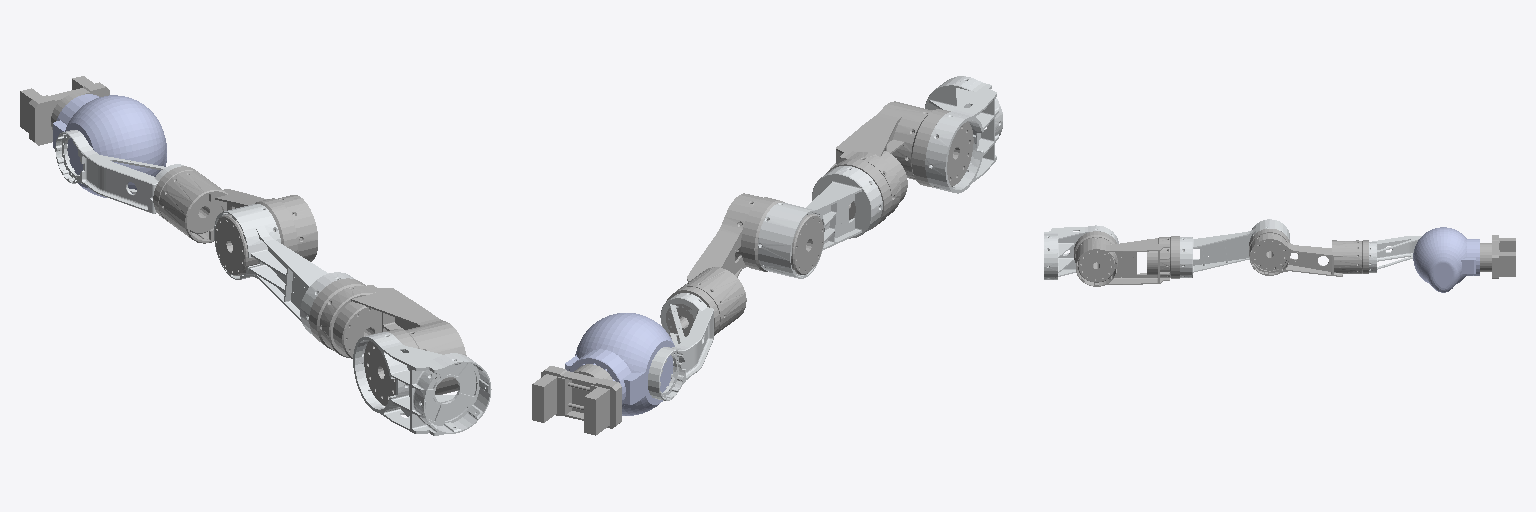
The robot description file, URDF, robot "leftarm":
<?xml version="1.0" encoding="utf-8"?>
<!-- This URDF was automatically created by SolidWorks to URDF Exporter! Originally created by [author] ([email redacted]) 
     Commit Version: 1.5.1-0-g916b5db  Build Version: 1.5.7152.31018
     For more information, please see http://wiki.ros.org/sw_urdf_exporter -->
<robot
  name="leftarm">
  <link
    name="base_link">
    <inertial>
      <origin
        xyz="-0.18611 0.00024595 -0.30056"
        rpy="0 0 0" />
      <mass
        value="29.23" />
      <inertia
        ixx="0.90901"
        ixy="0.0026537"
        ixz="-0.054869"
        iyy="1.3472"
        iyz="-0.0012738"
        izz="0.73143" />
    </inertial>
    <visual>
      <origin
        xyz="0 0 0"
        rpy="0 0 0" />
      <geometry>
        <mesh
          filename="package://leftarm/meshes/base_link.STL" />
      </geometry>
      <material
        name="">
        <color
          rgba="0.75294 0.75294 0.75294 1" />
      </material>
    </visual>
    <collision>
      <origin
        xyz="0 0 0"
        rpy="0 0 0" />
      <geometry>
        <mesh
          filename="package://leftarm/meshes/base_link.STL" />
      </geometry>
    </collision>
  </link>
  <link
    name="leftarm_link1">
    <inertial>
      <origin
        xyz="-5.5564E-06 -0.028843 -0.071947"
        rpy="0 0 0" />
      <mass
        value="0.18584" />
      <inertia
        ixx="0.0006488"
        ixy="2.9741E-08"
        ixz="-2.74E-08"
        iyy="0.0007339"
        iyz="0.00015111"
        izz="0.00049128" />
    </inertial>
    <visual>
      <origin
        xyz="0 0 0"
        rpy="0 0 0" />
      <geometry>
        <mesh
          filename="package://leftarm/meshes/leftarm_link1.STL" />
      </geometry>
      <material
        name="">
        <color
          rgba="0.89804 0.91373 0.92549 1" />
      </material>
    </visual>
    <collision>
      <origin
        xyz="0 0 0"
        rpy="0 0 0" />
      <geometry>
        <mesh
          filename="package://leftarm/meshes/leftarm_link1.STL" />
      </geometry>
    </collision>
  </link>
  <joint
    name="leftarm_joint1"
    type="revolute">
    <origin
      xyz="0 0.252 0"
      rpy="-1.5708 -1.5708 0" />
    <parent
      link="base_link" />
    <child
      link="leftarm_link1" />
    <axis
      xyz="0 0 1" />
    <limit
      lower="-1.57"
      upper="1.57"
      effort="0"
      velocity="0" />
  </joint>
  <link
    name="leftarm_link2">
    <inertial>
      <origin
        xyz="-8.0024E-09 0.087182 -0.00048725"
        rpy="0 0 0" />
      <mass
        value="1.9049" />
      <inertia
        ixx="0.018774"
        ixy="-1.7267E-10"
        ixz="-2.3681E-10"
        iyy="0.0031059"
        iyz="0.0002545"
        izz="0.018629" />
    </inertial>
    <visual>
      <origin
        xyz="0 0 0"
        rpy="0 0 0" />
      <geometry>
        <mesh
          filename="package://leftarm/meshes/leftarm_link2.STL" />
      </geometry>
      <material
        name="">
        <color
          rgba="0.75294 0.75294 0.75294 1" />
      </material>
    </visual>
    <collision>
      <origin
        xyz="0 0 0"
        rpy="0 0 0" />
      <geometry>
        <mesh
          filename="package://leftarm/meshes/leftarm_link2.STL" />
      </geometry>
    </collision>
  </link>
  <joint
    name="leftarm_joint2"
    type="revolute">
    <origin
      xyz="0 0 0"
      rpy="1.5708 0 0" />
    <parent
      link="leftarm_link1" />
    <child
      link="leftarm_link2" />
    <axis
      xyz="0 0 1" />
    <limit
      lower="-1.57"
      upper="1.57"
      effort="0"
      velocity="0" />
  </joint>
  <link
    name="leftarm_link3">
    <inertial>
      <origin
        xyz="0.015505 -0.01761 -0.097265"
        rpy="0 0 0" />
      <mass
        value="0.20921" />
      <inertia
        ixx="0.0017392"
        ixy="2.2735E-05"
        ixz="-0.00022136"
        iyy="0.0018811"
        iyz="0.00015929"
        izz="0.00033312" />
    </inertial>
    <visual>
      <origin
        xyz="0 0 0"
        rpy="0 0 0" />
      <geometry>
        <mesh
          filename="package://leftarm/meshes/leftarm_link3.STL" />
      </geometry>
      <material
        name="">
        <color
          rgba="0.89804 0.91373 0.92549 1" />
      </material>
    </visual>
    <collision>
      <origin
        xyz="0 0 0"
        rpy="0 0 0" />
      <geometry>
        <mesh
          filename="package://leftarm/meshes/leftarm_link3.STL" />
      </geometry>
    </collision>
  </link>
  <joint
    name="leftarm_joint3"
    type="revolute">
    <origin
      xyz="0 0.4495 0"
      rpy="-1.5708 0 0" />
    <parent
      link="leftarm_link2" />
    <child
      link="leftarm_link3" />
    <axis
      xyz="0 0 1" />
    <limit
      lower="-1.57"
      upper="1.57"
      effort="0"
      velocity="0" />
  </joint>
  <link
    name="leftarm_link4">
    <inertial>
      <origin
        xyz="-0.011027 0.079985 -0.0010807"
        rpy="0 0 0" />
      <mass
        value="1.3369" />
      <inertia
        ixx="0.016778"
        ixy="0.0019889"
        ixz="-2.9606E-05"
        iyy="0.0021846"
        iyz="0.00011892"
        izz="0.016743" />
    </inertial>
    <visual>
      <origin
        xyz="0 0 0"
        rpy="0 0 0" />
      <geometry>
        <mesh
          filename="package://leftarm/meshes/leftarm_link4.STL" />
      </geometry>
      <material
        name="">
        <color
          rgba="0.75294 0.75294 0.75294 1" />
      </material>
    </visual>
    <collision>
      <origin
        xyz="0 0 0"
        rpy="0 0 0" />
      <geometry>
        <mesh
          filename="package://leftarm/meshes/leftarm_link4.STL" />
      </geometry>
    </collision>
  </link>
  <joint
    name="leftarm_joint4"
    type="revolute">
    <origin
      xyz="0.03 0 0"
      rpy="1.5708 0 0" />
    <parent
      link="leftarm_link3" />
    <child
      link="leftarm_link4" />
    <axis
      xyz="0 0 1" />
    <limit
      lower="-1.57"
      upper="1.57"
      effort="0"
      velocity="0" />
  </joint>
  <link
    name="leftarm_link5">
    <inertial>
      <origin
        xyz="1.0381E-08 -0.04436 -0.10543"
        rpy="0 0 0" />
      <mass
        value="0.10575" />
      <inertia
        ixx="0.00061714"
        ixy="-3.5417E-11"
        ixz="6.6878E-11"
        iyy="0.00056107"
        iyz="0.00017327"
        izz="0.00015958" />
    </inertial>
    <visual>
      <origin
        xyz="0 0 0"
        rpy="0 0 0" />
      <geometry>
        <mesh
          filename="package://leftarm/meshes/leftarm_link5.STL" />
      </geometry>
      <material
        name="">
        <color
          rgba="0.89804 0.91373 0.92549 1" />
      </material>
    </visual>
    <collision>
      <origin
        xyz="0 0 0"
        rpy="0 0 0" />
      <geometry>
        <mesh
          filename="package://leftarm/meshes/leftarm_link5.STL" />
      </geometry>
    </collision>
  </link>
  <joint
    name="leftarm_joint5"
    type="revolute">
    <origin
      xyz="-0.03 0.4495 0"
      rpy="-1.5708 0 0" />
    <parent
      link="leftarm_link4" />
    <child
      link="leftarm_link5" />
    <axis
      xyz="0 0 1" />
    <limit
      lower="-1.57"
      upper="1.57"
      effort="0"
      velocity="0" />
  </joint>
  <link
    name="leftarm_link6">
    <inertial>
      <origin
        xyz="-0.0011179 0.0073776 -0.002551"
        rpy="0 0 0" />
      <mass
        value="2.1621" />
      <inertia
        ixx="0.0060251"
        ixy="-1.7861E-05"
        ixz="-0.00013479"
        iyy="0.0050934"
        iyz="-5.6625E-05"
        izz="0.006213" />
    </inertial>
    <visual>
      <origin
        xyz="0 0 0"
        rpy="0 0 0" />
      <geometry>
        <mesh
          filename="package://leftarm/meshes/leftarm_link6.STL" />
      </geometry>
      <material
        name="">
        <color
          rgba="0.79216 0.81961 0.93333 1" />
      </material>
    </visual>
    <collision>
      <origin
        xyz="0 0 0"
        rpy="0 0 0" />
      <geometry>
        <mesh
          filename="package://leftarm/meshes/leftarm_link6.STL" />
      </geometry>
    </collision>
  </link>
  <joint
    name="leftarm_joint6"
    type="revolute">
    <origin
      xyz="0 0 0"
      rpy="1.5708 0 0" />
    <parent
      link="leftarm_link5" />
    <child
      link="leftarm_link6" />
    <axis
      xyz="0 0 1" />
    <limit
      lower="-1.57"
      upper="1.57"
      effort="0"
      velocity="0" />
  </joint>
  <link
    name="leftarm_link7">
    <inertial>
      <origin
        xyz="0 -0.001 0.13476"
        rpy="0 0 0" />
      <mass
        value="0.37671" />
      <inertia
        ixx="0.00071967"
        ixy="1.4537E-20"
        ixz="3.8228E-19"
        iyy="0.00034734"
        iyz="-2.11E-20"
        izz="0.0006435" />
    </inertial>
    <visual>
      <origin
        xyz="0 0 0"
        rpy="0 0 0" />
      <geometry>
        <mesh
          filename="package://leftarm/meshes/leftarm_link7.STL" />
      </geometry>
      <material
        name="">
        <color
          rgba="0.75294 0.75294 0.75294 1" />
      </material>
    </visual>
    <collision>
      <origin
        xyz="0 0 0"
        rpy="0 0 0" />
      <geometry>
        <mesh
          filename="package://leftarm/meshes/leftarm_link7.STL" />
      </geometry>
    </collision>
  </link>
  <joint
    name="leftarm_joint7"
    type="revolute">
    <origin
      xyz="0 0 0"
      rpy="-1.5707963267949 0 0" />
    <parent
      link="leftarm_link6" />
    <child
      link="leftarm_link7" />
    <axis
      xyz="0 0 1" />
    <limit
      lower="-1.57"
      upper="1.57"
      effort="0"
      velocity="0" />
  </joint>
</robot>

--- Render facts (derived) ---
3 views of the same robot in one strip: view 1: azimuth 30°, elevation 25°; view 2: azimuth 150°, elevation 25°; view 3: azimuth 270°, elevation 25° (orthographic).
Robot: leftarm — 8 links, 7 joints (7 revolute); root link base_link; default pose: every joint at zero.
Links seen in each view (by area): view 1: leftarm_link2, leftarm_link1, leftarm_link4, leftarm_link6, leftarm_link3, leftarm_link5, leftarm_link7; view 2: leftarm_link4, leftarm_link2, leftarm_link3, leftarm_link6, leftarm_link1, leftarm_link7, leftarm_link5; view 3: leftarm_link2, leftarm_link4, leftarm_link6, leftarm_link3, leftarm_link1, leftarm_link7, leftarm_link5.
Boxes of the visible links, <box> form: leftarm_link2: <box>309,278,466,406</box>; leftarm_link1: <box>353,332,491,435</box>; leftarm_link4: <box>153,166,317,275</box>; leftarm_link6: <box>53,94,166,197</box>; leftarm_link3: <box>214,204,355,334</box>; leftarm_link5: <box>55,130,183,213</box>; leftarm_link7: <box>20,76,109,145</box>; leftarm_link4: <box>666,193,823,338</box>; leftarm_link2: <box>826,101,973,230</box>; leftarm_link3: <box>758,166,882,278</box>; leftarm_link6: <box>565,313,674,415</box>; leftarm_link1: <box>925,76,1002,193</box>; leftarm_link7: <box>532,364,621,435</box>; leftarm_link5: <box>648,293,713,400</box>; leftarm_link2: <box>1074,231,1183,286</box>; leftarm_link4: <box>1249,229,1370,276</box>; leftarm_link6: <box>1413,227,1479,292</box>; leftarm_link3: <box>1180,219,1289,277</box>; leftarm_link1: <box>1044,225,1118,279</box>; leftarm_link7: <box>1480,235,1515,278</box>; leftarm_link5: <box>1369,236,1421,272</box>.
Size in the robot's own frame: 0.155 by 1.22 by 0.1629 metres.
Meshes: 8 distinct files referenced, 7 mesh visuals loaded (7 binary STL); not drawn: 1 (reference not matched to a file when rendering).